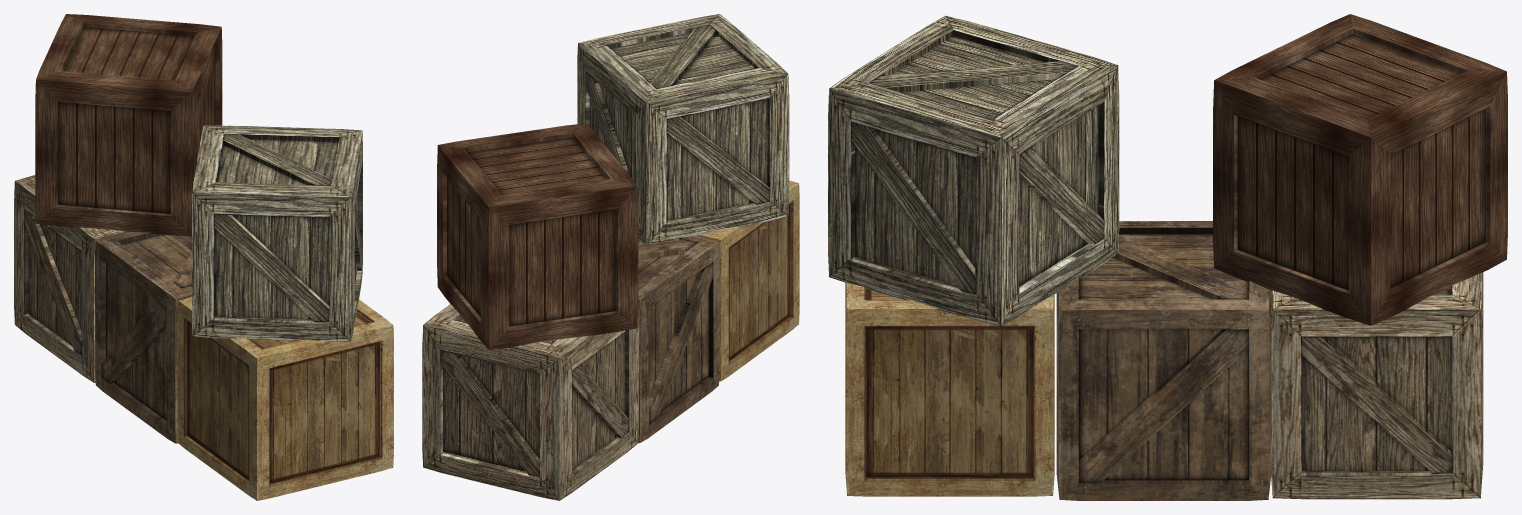
File: VJ0E2B9MHGOJKOD1UEA7WT51L.fbx
The picture shows the model from 3 angles, left to right: view 1: azimuth 30°, elevation 25°; view 2: azimuth 150°, elevation 25°; view 3: azimuth 270°, elevation 25°; orthographic projection. The views are drawn at different scales.
Parts seen in each view (by area): view 1: Object_wooden4.jpg, Object_wooden3.jpg, Object_wooden5.jpg, Object_wooden2.jpg, Object_wooden1.jpg; view 2: Object_wooden4.jpg, Object_wooden3.jpg, Object_wooden1.jpg, Object_wooden2.jpg, Object_wooden5.jpg; view 3: Object_wooden4.jpg, Object_wooden3.jpg, Object_wooden2.jpg, Object_wooden1.jpg, Object_wooden5.jpg.
Boxes of the visible parts, box(x1,y1,x2,y2) form: Object_wooden4.jpg: box(35, 14, 222, 236); Object_wooden3.jpg: box(192, 125, 362, 341); Object_wooden5.jpg: box(178, 297, 393, 500); Object_wooden2.jpg: box(95, 231, 191, 443); Object_wooden1.jpg: box(14, 175, 127, 382); Object_wooden4.jpg: box(437, 123, 638, 349); Object_wooden3.jpg: box(577, 14, 789, 243); Object_wooden1.jpg: box(422, 304, 638, 500); Object_wooden2.jpg: box(638, 235, 719, 443); Object_wooden5.jpg: box(698, 180, 799, 381); Object_wooden4.jpg: box(1213, 14, 1507, 325); Object_wooden3.jpg: box(828, 16, 1119, 326); Object_wooden2.jpg: box(1056, 221, 1271, 500); Object_wooden1.jpg: box(1271, 272, 1483, 499); Object_wooden5.jpg: box(845, 282, 1054, 496).
Bounding box in the file's own units: 1.08 × 1.56 × 2.5.
Materials: 5 (5 with a texture image).
